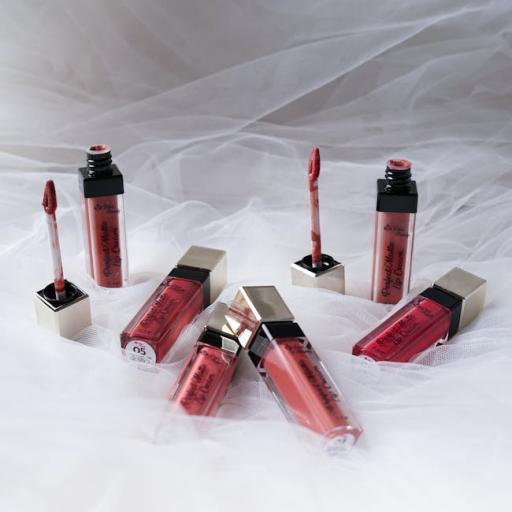lipstick: (227, 286, 362, 452), (353, 268, 486, 362), (121, 246, 226, 363), (34, 181, 91, 337), (169, 303, 241, 415), (292, 148, 345, 293), (79, 145, 128, 287), (372, 160, 417, 304)
